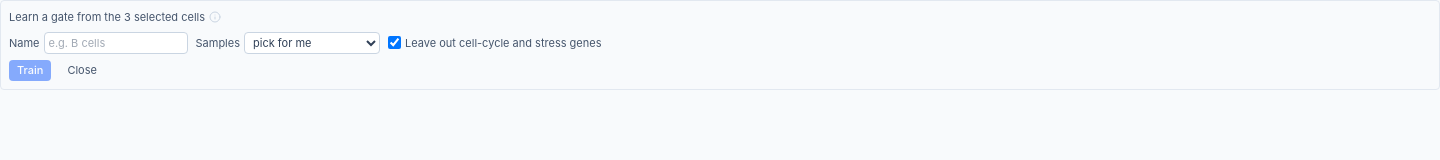
Test: LearnedGateForm › shows the server's refusal
Type "x" into the field labelled "Name". click: (116, 43)
box: [44, 32, 188, 54]
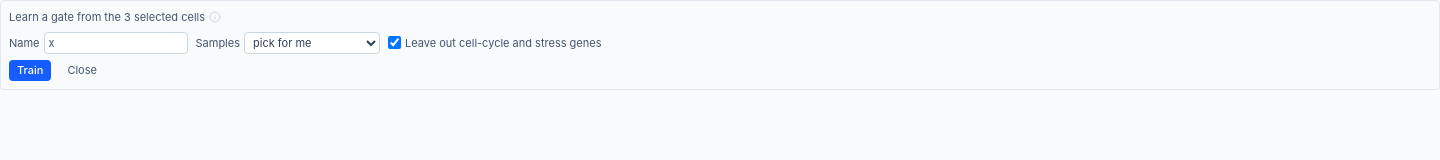
Click the button "Train". click: (30, 70)
box: [9, 60, 51, 80]
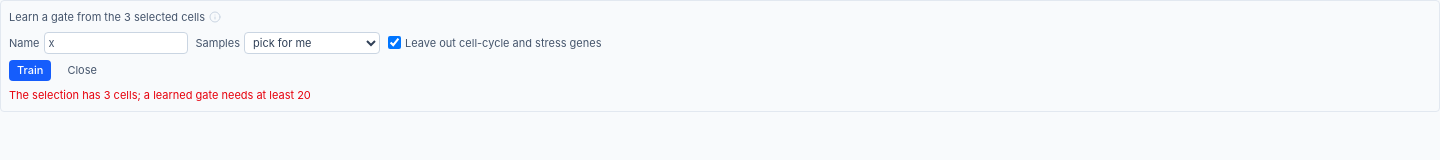
Now the message shows "at least 20", box [9, 88, 311, 102]
